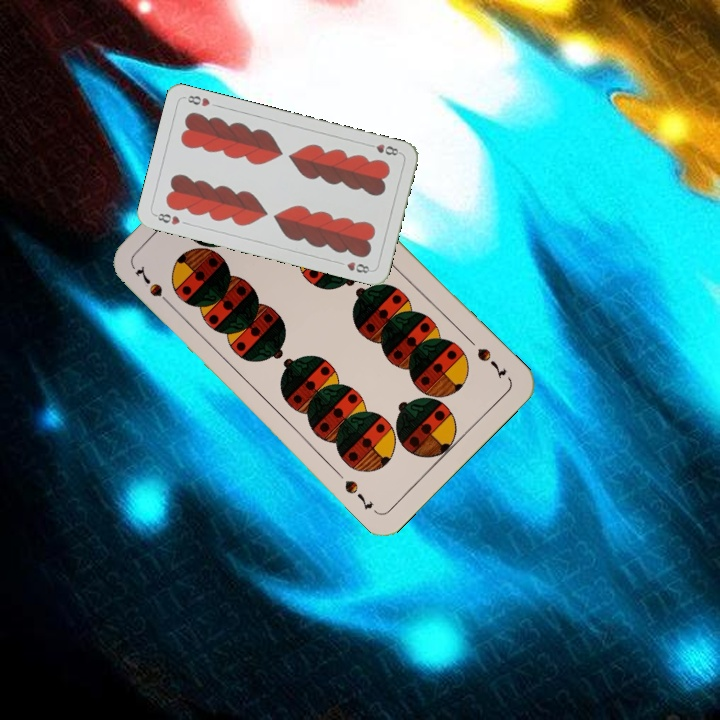H8: (363, 140, 403, 158), (151, 209, 183, 228)
S7: (131, 261, 175, 310), (472, 343, 509, 382)
